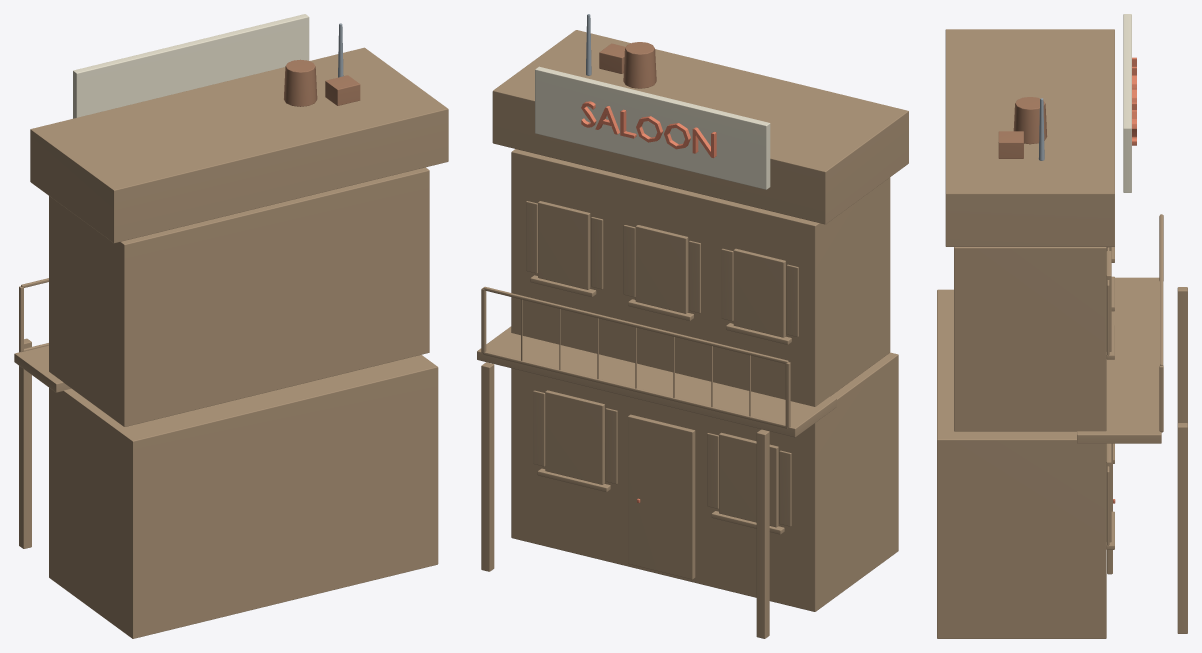
The model's file is shopfront_2_saloon.glb.
3 views of the same model, side by side, from view 1: azimuth 30°, elevation 25°; view 2: azimuth 150°, elevation 25°; view 3: azimuth 270°, elevation 25° (orthographic).
Parts seen in each view (by area): view 1: shopfront_2_saloon; view 2: shopfront_2_saloon; view 3: shopfront_2_saloon.
Boxes of the visible parts, x1,y1,x2,y2 form: shopfront_2_saloon: (14, 14, 448, 638); shopfront_2_saloon: (477, 14, 908, 638); shopfront_2_saloon: (937, 14, 1187, 638).
Bounding box in the file's own units: 4.6 × 6.75 × 2.96.
